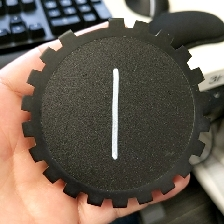gear: (19, 17, 211, 209)
missing: (59, 17, 126, 48)
